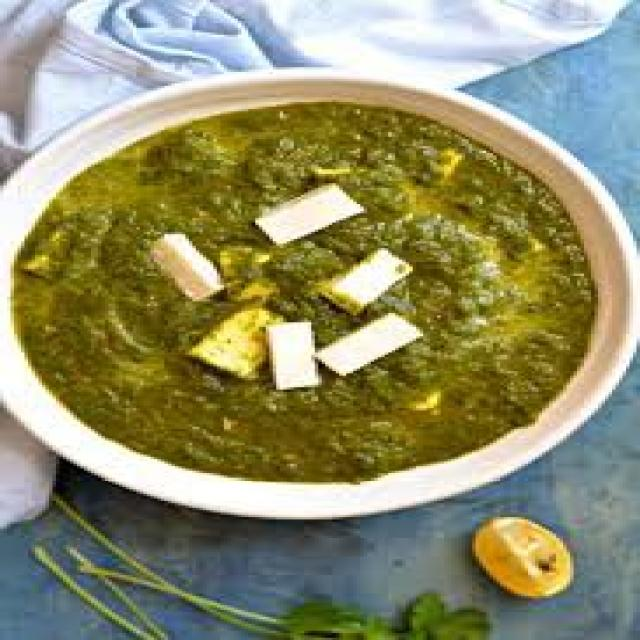Palak Paneer: (9, 102, 591, 488)
